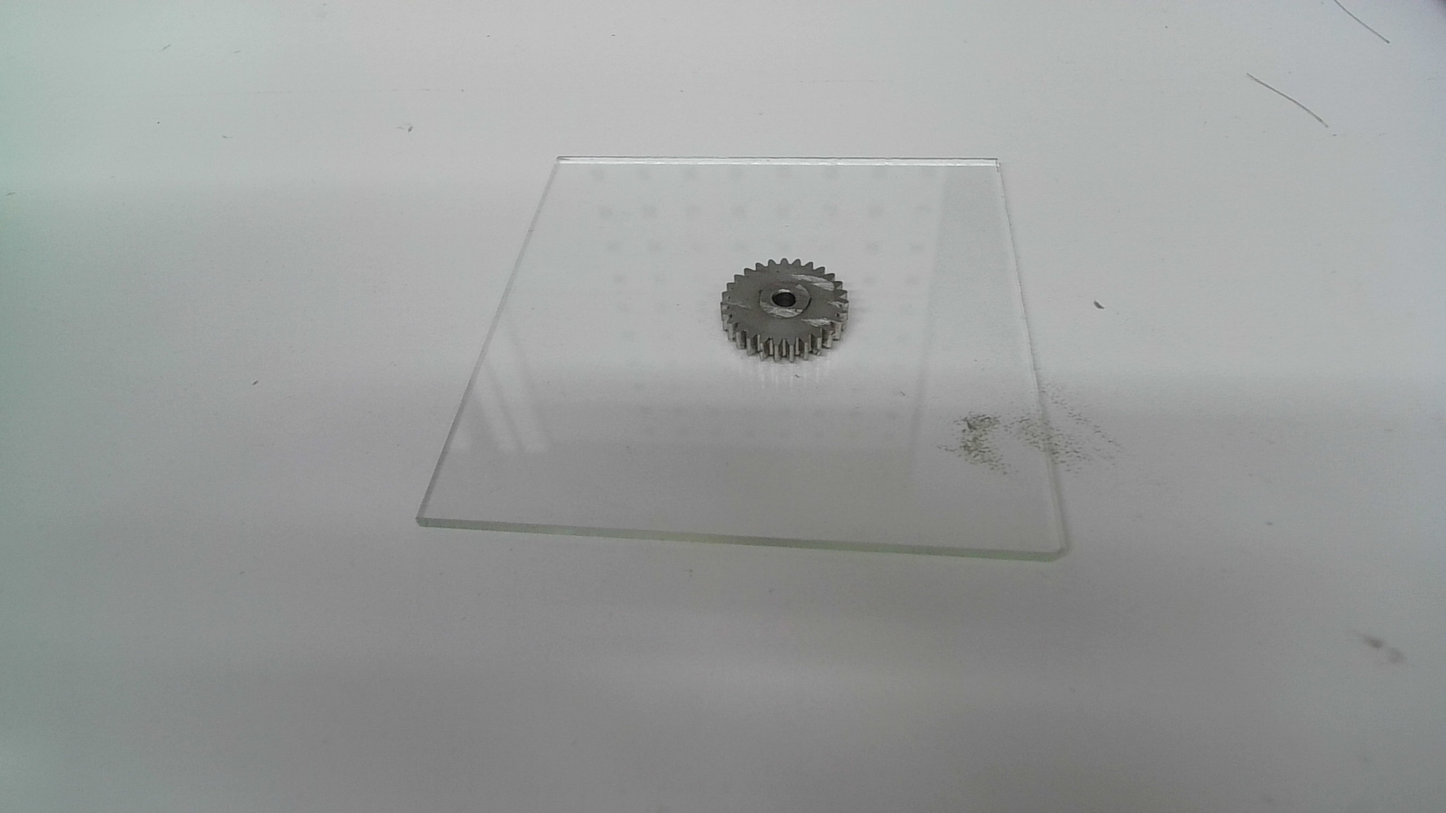gear: (719, 255, 851, 363)
